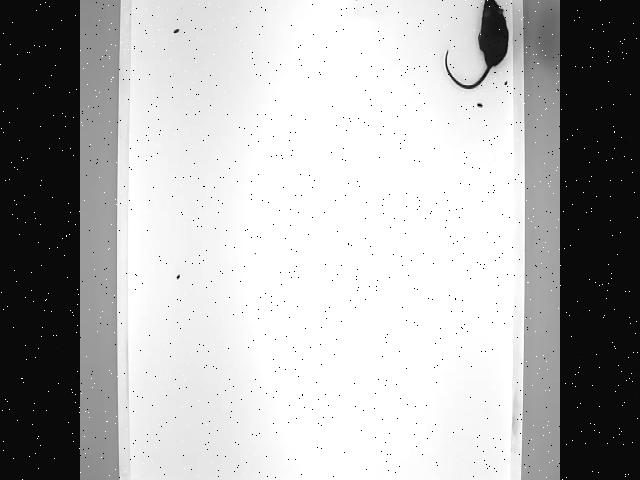Tikus: (444, 0, 508, 88)
